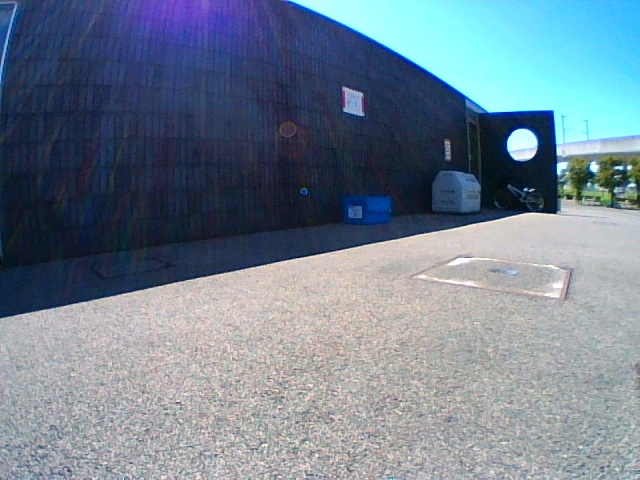blue_box: (344, 196, 391, 223)
tag: (349, 206, 362, 217)
